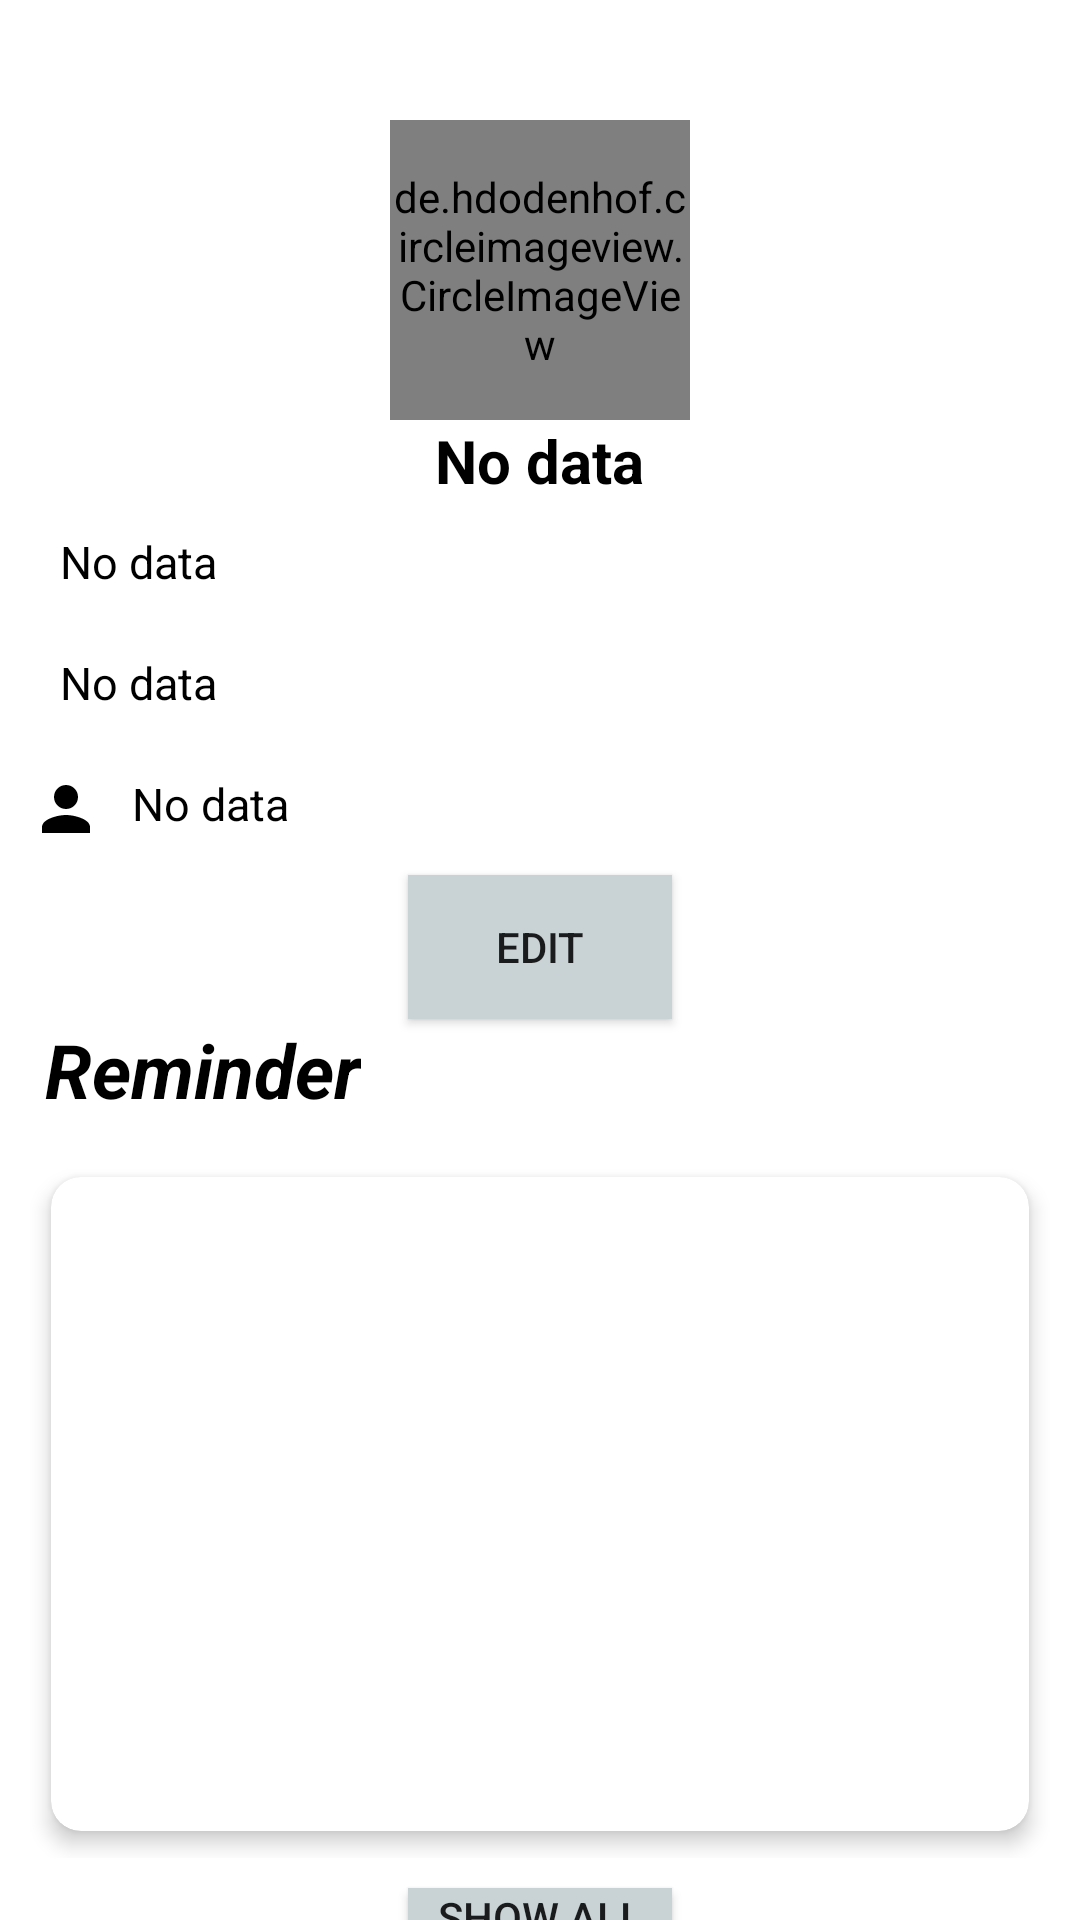

Point at icon controls on the screen. Image size 1080px x 1920px, points as [x,y].
person: [66,809]
